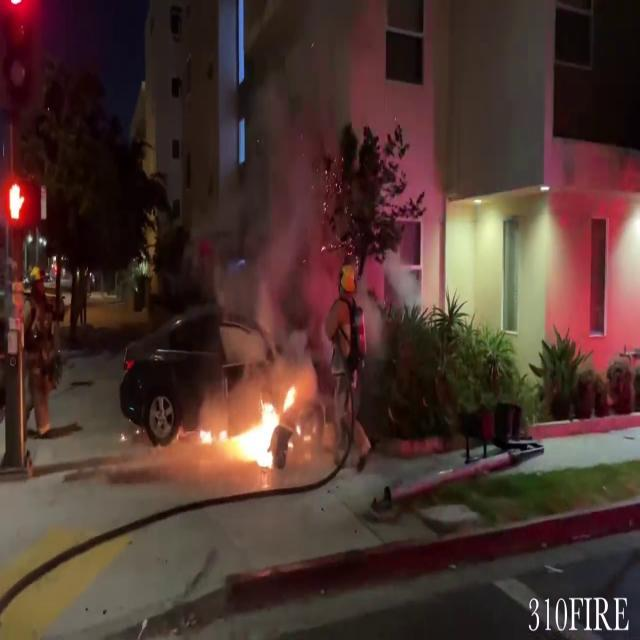Fire: (195, 380, 301, 470)
Smoke: (200, 8, 354, 357)
